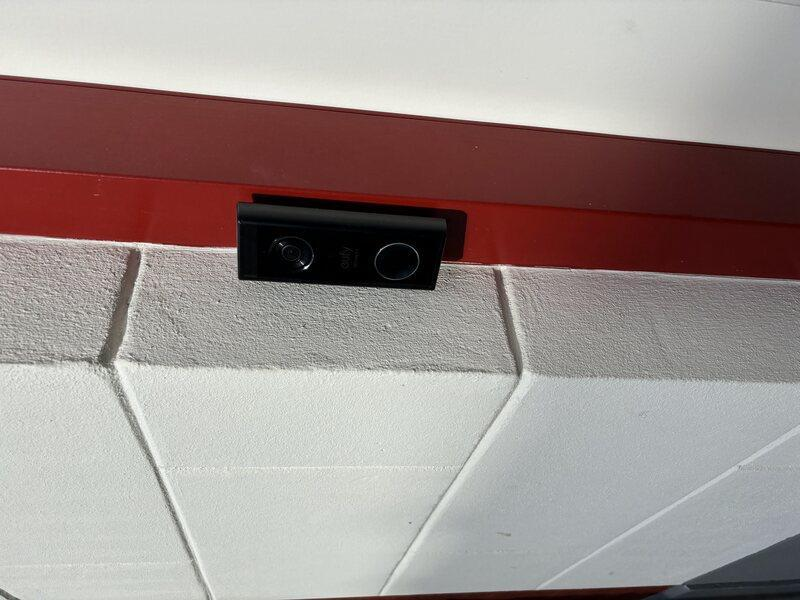doorbell: (310, 219, 405, 463)
